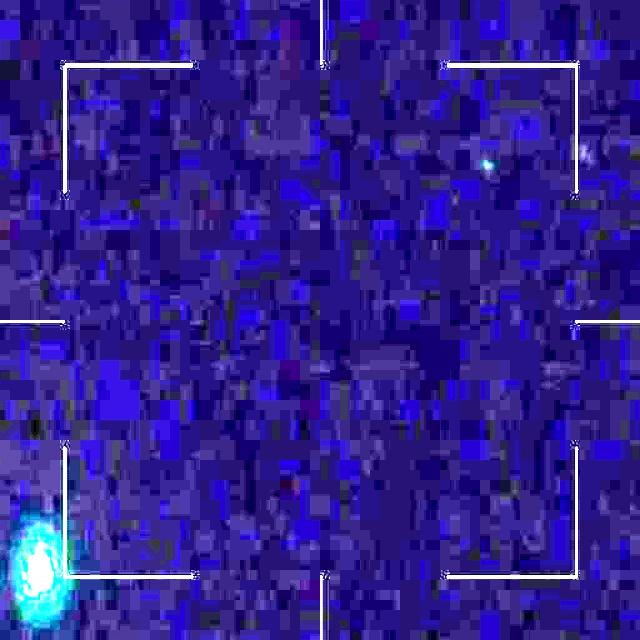bird: (0, 548, 58, 630)
